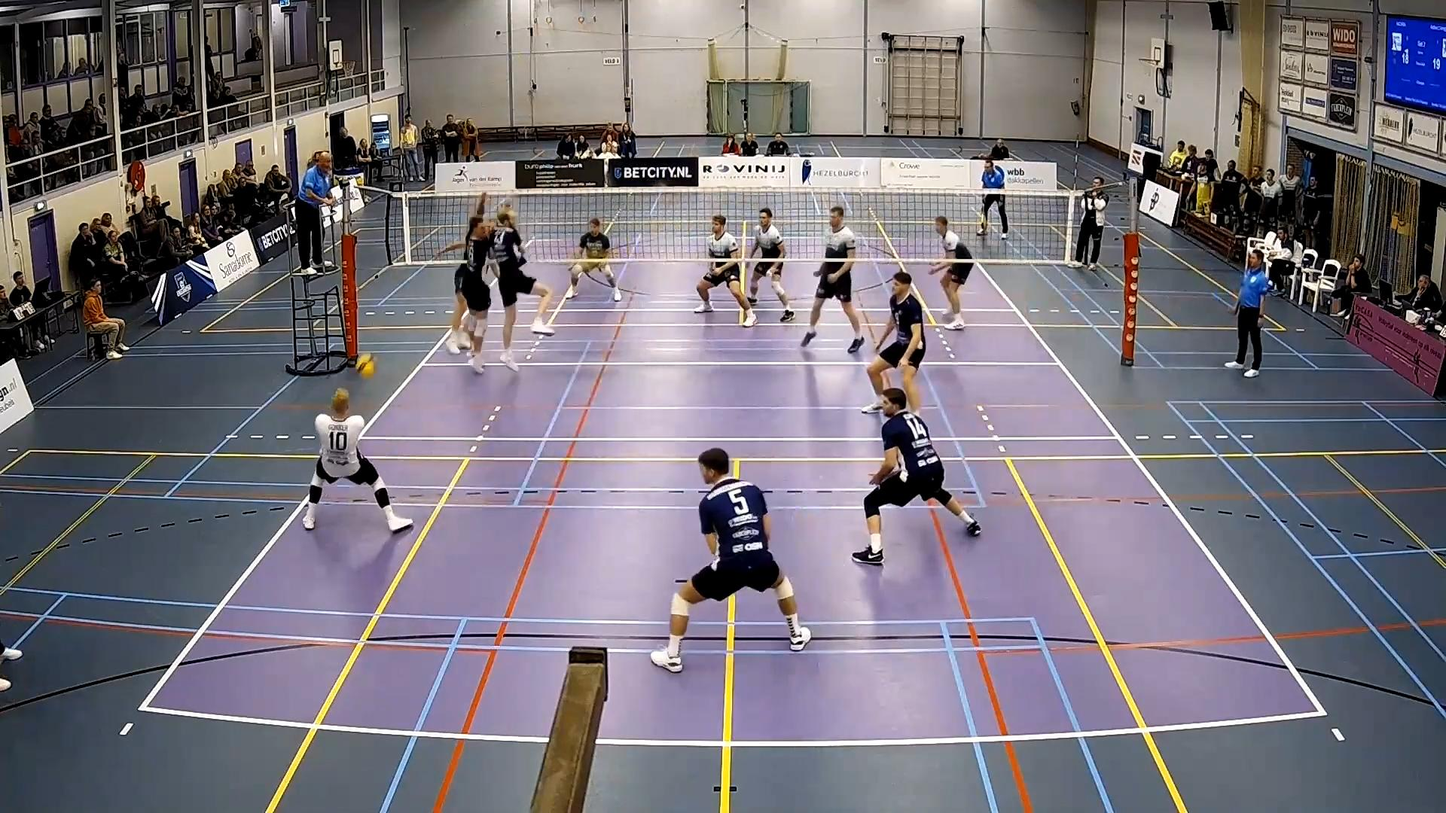difesa: (299, 384, 413, 540)
muro: (495, 208, 555, 377), (455, 187, 503, 381)
